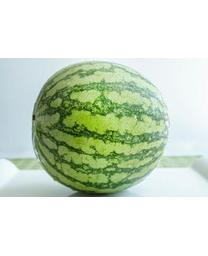watermelon: (32, 60, 170, 195)
